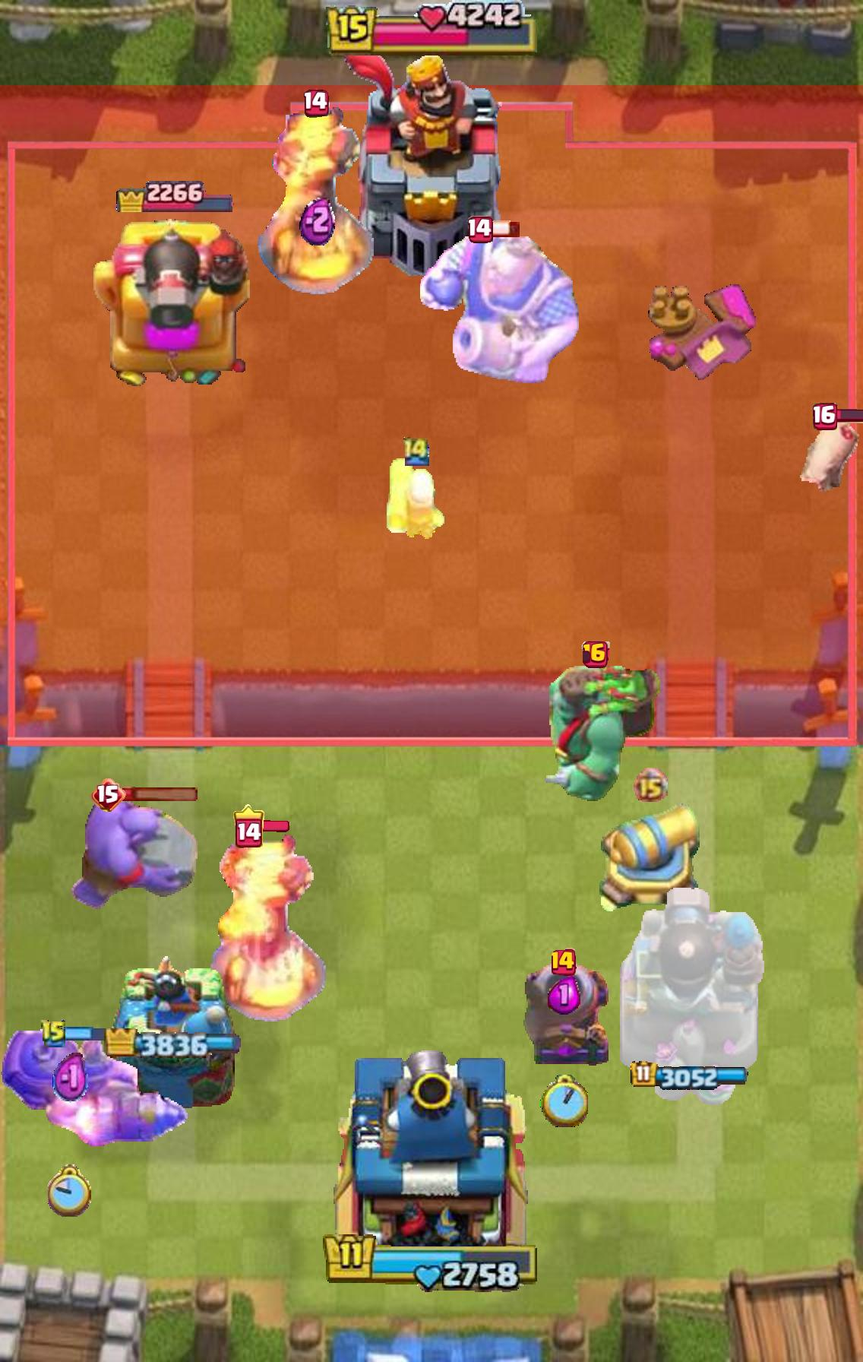bar: (122, 787, 201, 803), (490, 220, 520, 238), (834, 409, 863, 424), (260, 820, 290, 832)
bar-level: (234, 804, 265, 848), (90, 778, 126, 812), (582, 641, 610, 669), (304, 89, 330, 118), (467, 215, 493, 244), (551, 948, 577, 977), (813, 403, 837, 430)
